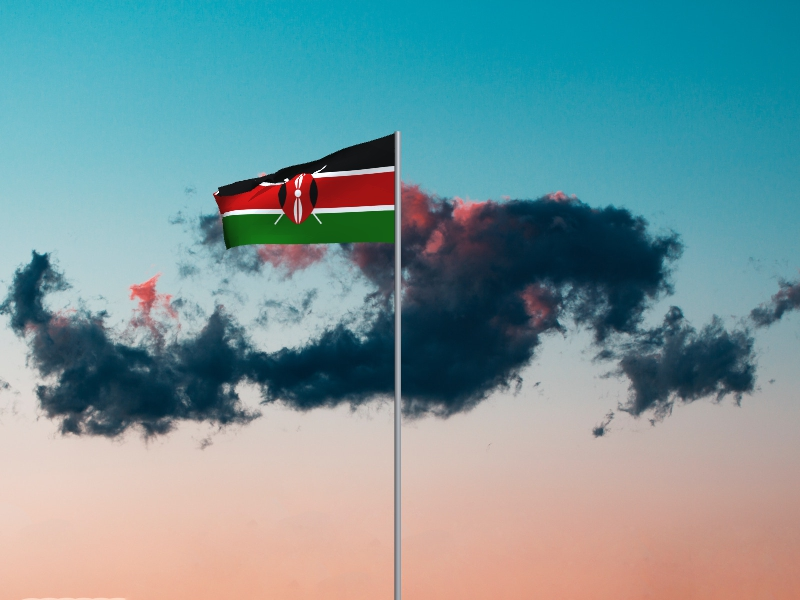ke: (213, 133, 395, 251)
